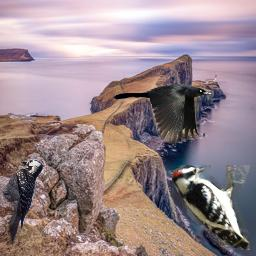Crow: (113, 83, 214, 144)
Woodpecker: (172, 165, 250, 250), (1, 155, 43, 247)
